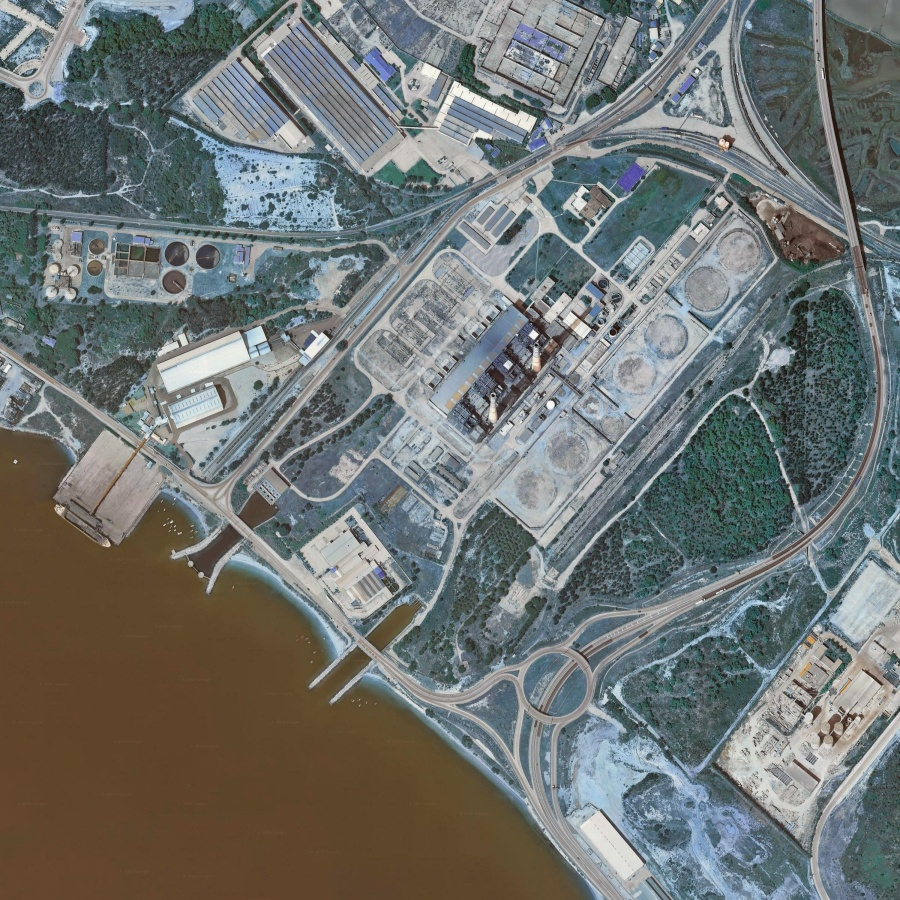PowerPlant: (389, 176, 764, 516)
